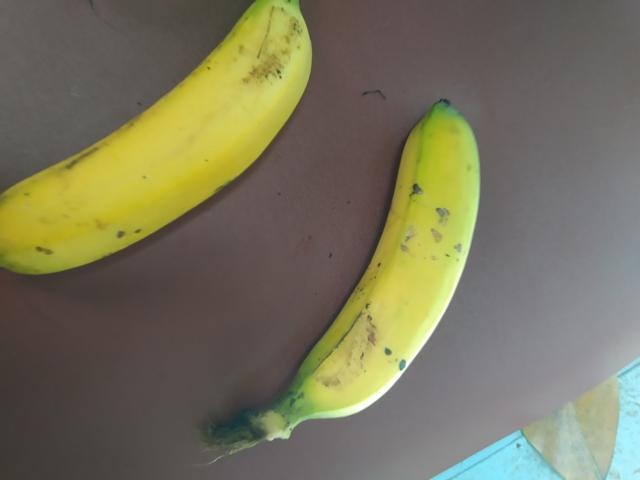freshripe: (0, 3, 337, 292)
ripe: (250, 92, 476, 458)
